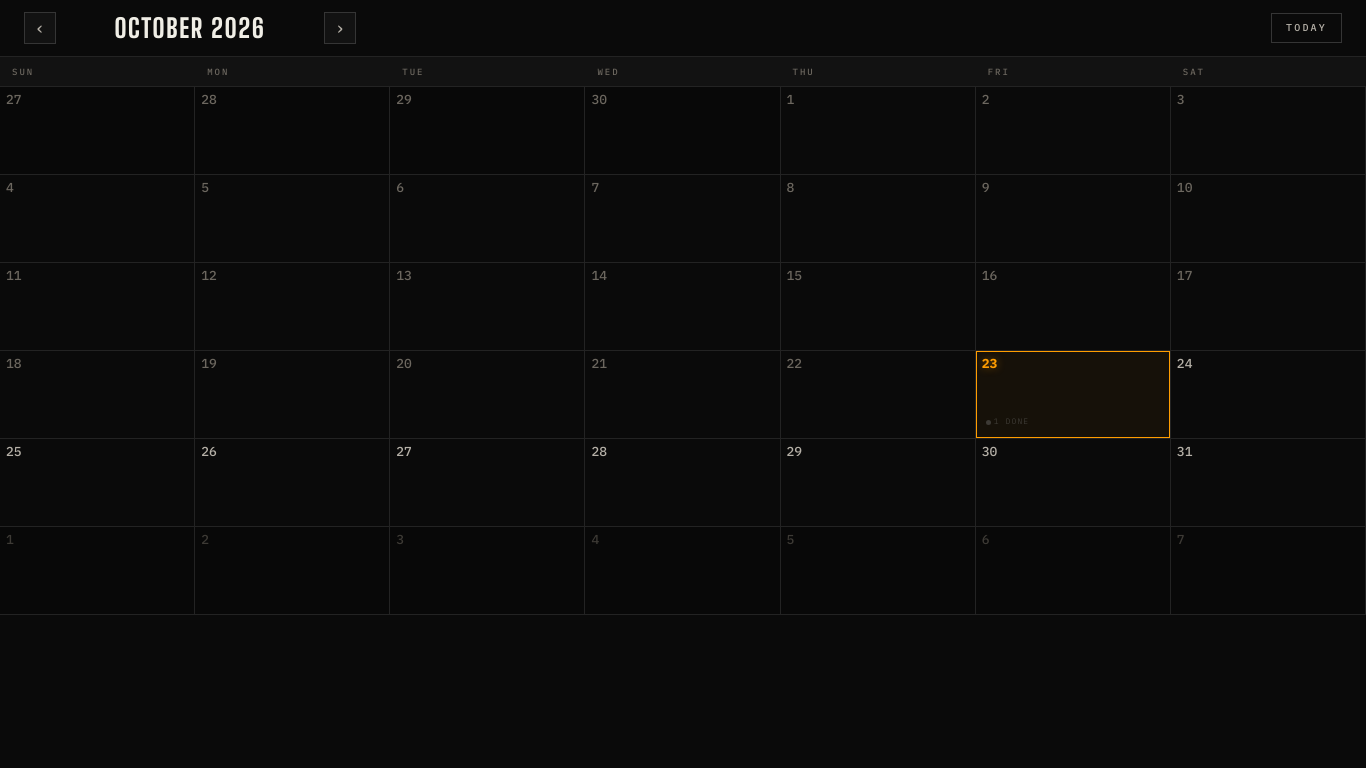
Scenario: CalendarView day selection › forwards the unfiltered reminder list to the day panel, so a completed item excluded from the grid still shows up there
The width and height of the screenshot is (1366, 768).
expect the text "Finished thing" is not shown: met
Click the cell "23 1 done": (1073, 395) [976, 351, 1171, 439]
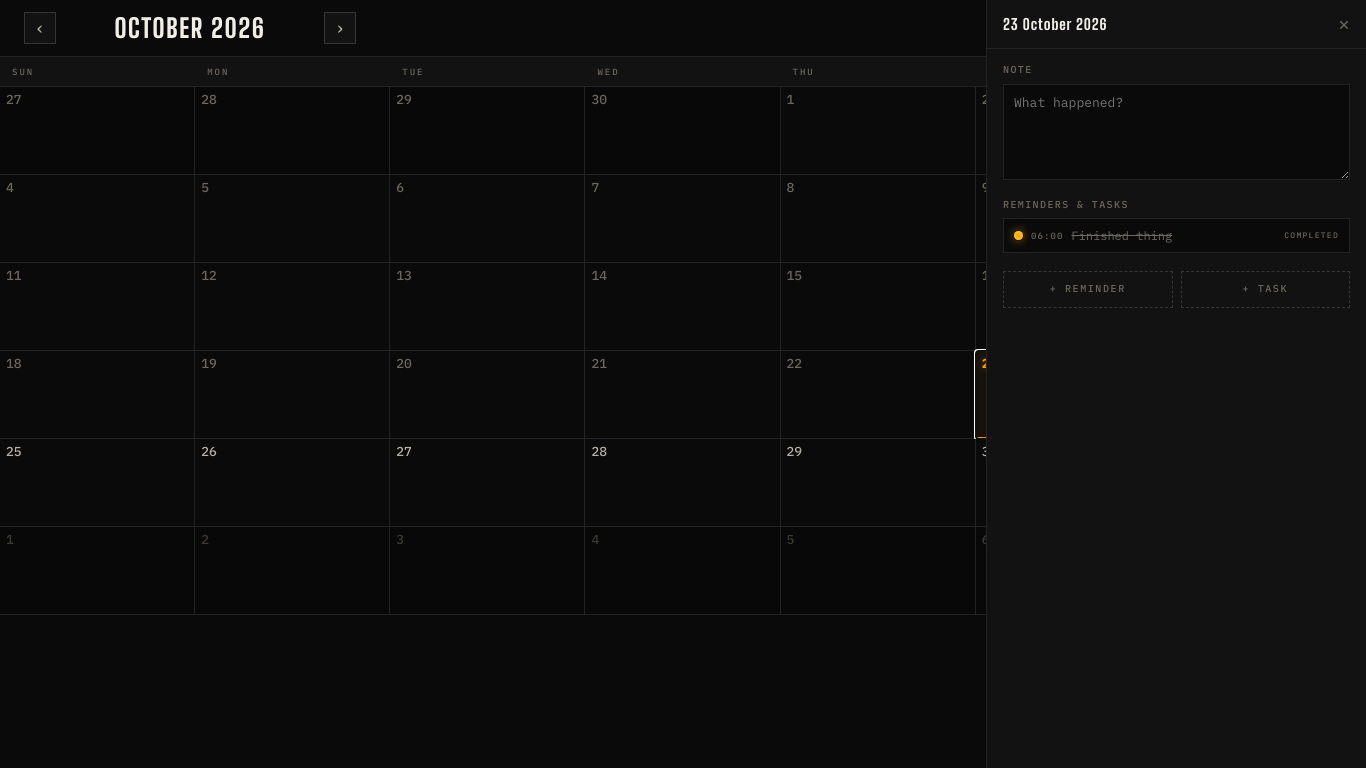
expect the text "Finished thing" is shown: met, box [1071, 228, 1172, 243]
